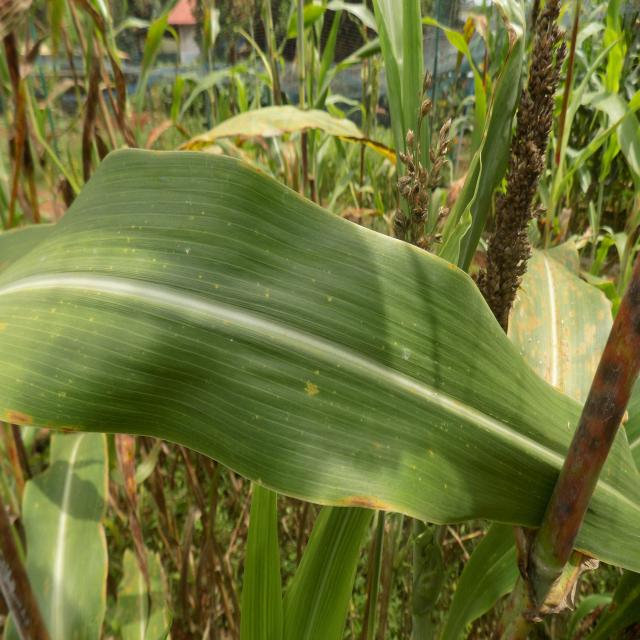millet_healthy: (0, 139, 640, 576)
